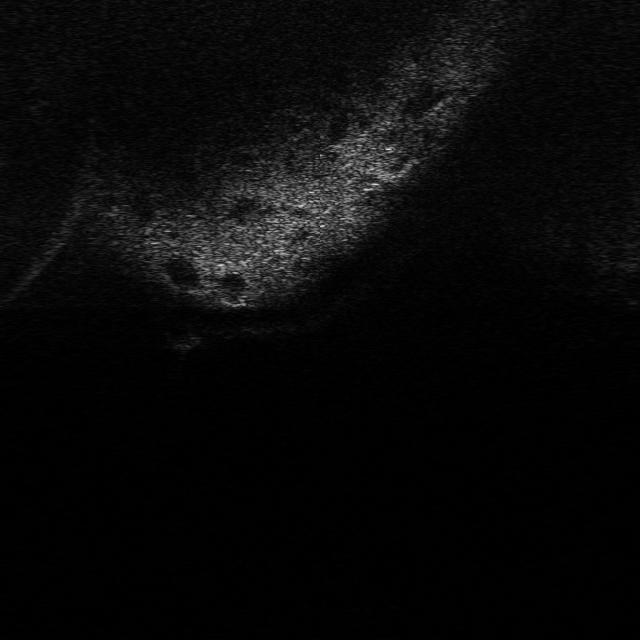cube: (158, 321, 202, 354)
